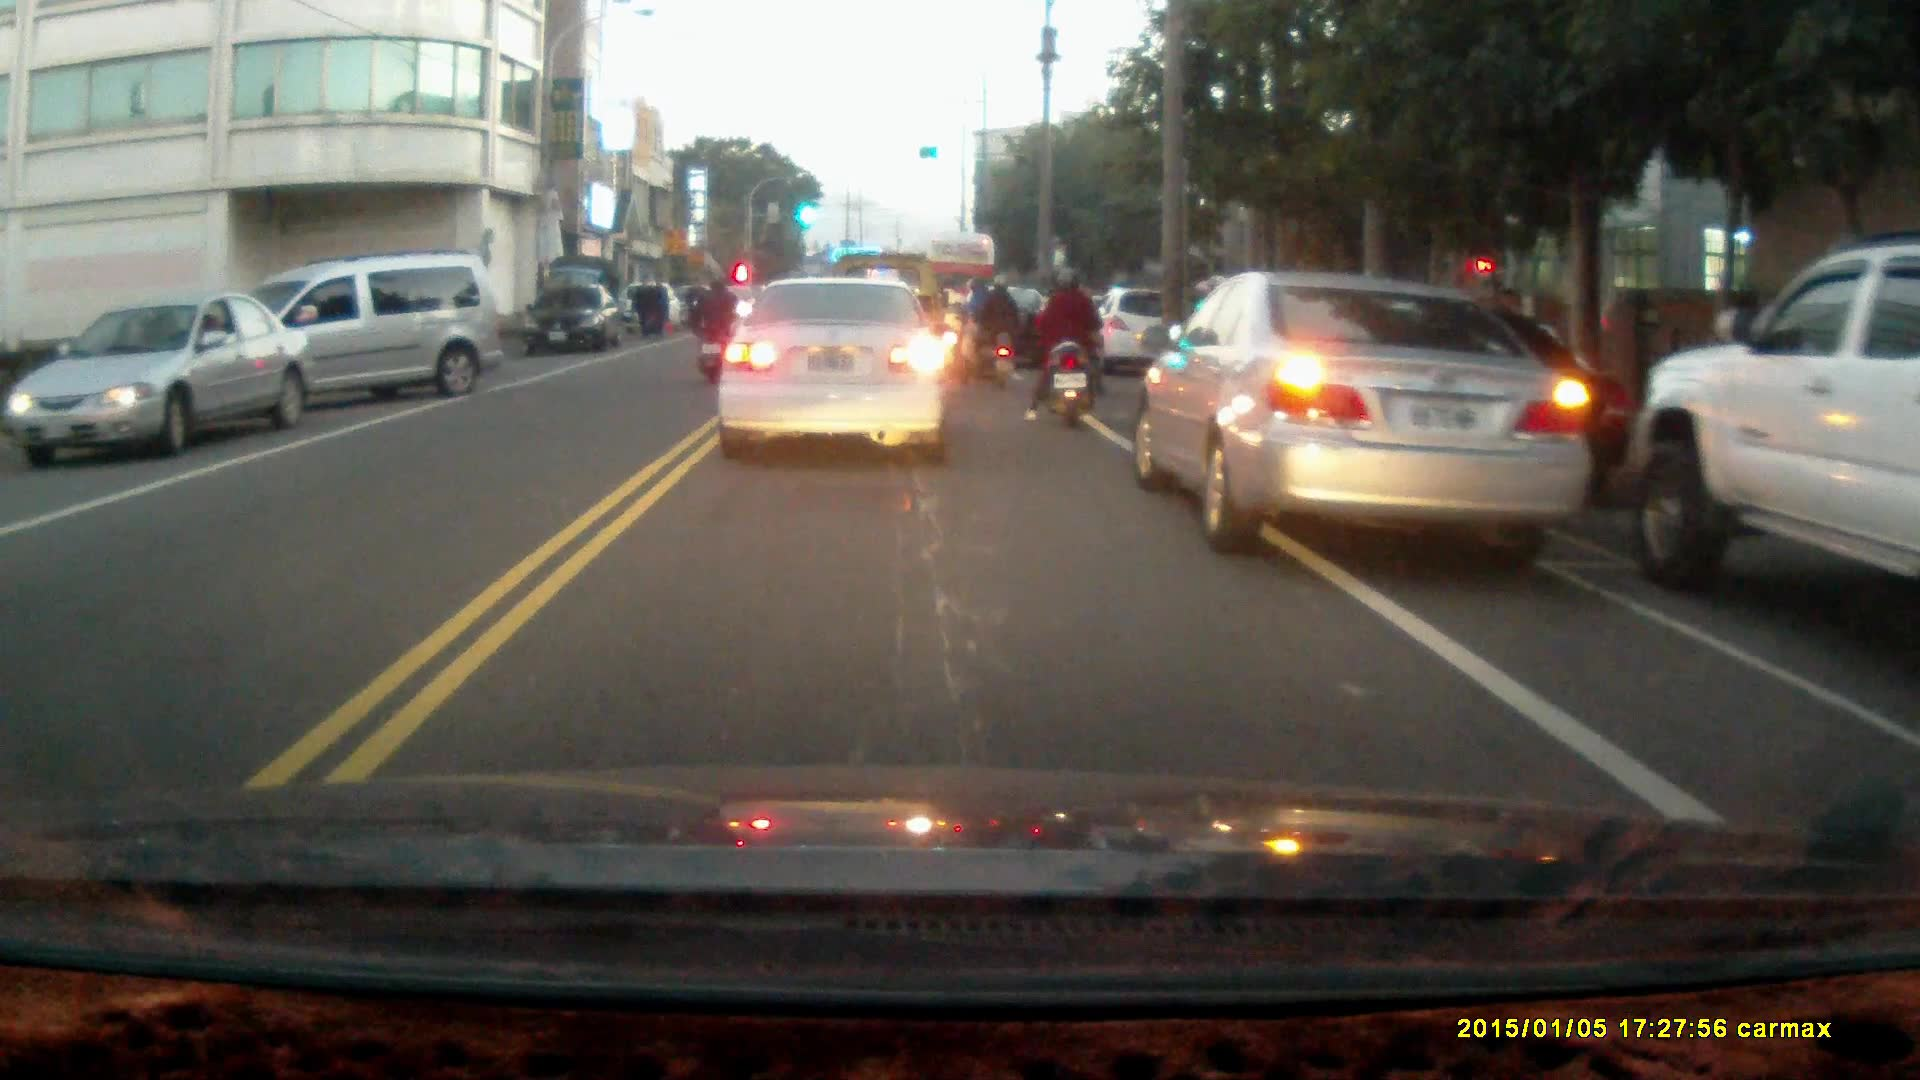pedestrian: (631, 271, 656, 338), (649, 271, 669, 340)
rider: (1022, 265, 1109, 431), (955, 268, 1023, 387), (694, 274, 738, 383)
vehicle: (1131, 265, 1587, 557), (1629, 235, 1920, 600), (196, 253, 511, 424), (15, 294, 303, 465), (716, 275, 953, 467), (526, 281, 625, 356)
